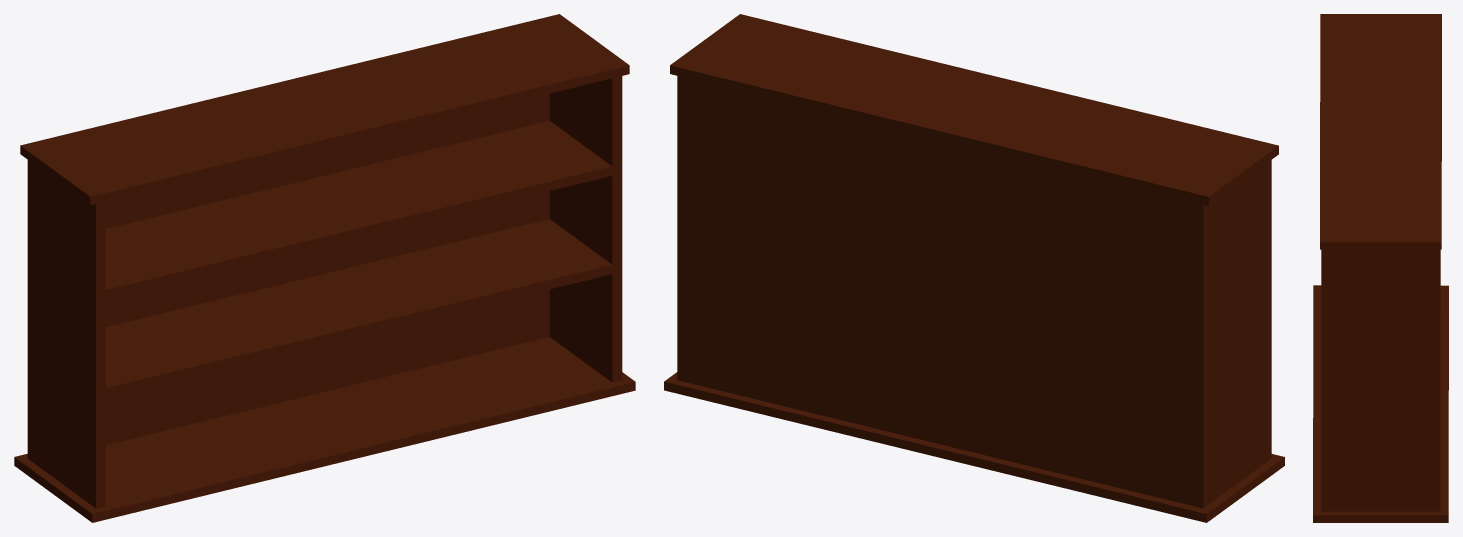
Rendered from book-shelf.obj.
3 views of the same model, side by side, from view 1: azimuth 30°, elevation 25°; view 2: azimuth 150°, elevation 25°; view 3: azimuth 270°, elevation 25° (orthographic). The views are drawn at different scales.
Parts seen in each view (by area): view 1: Cube; view 2: Cube; view 3: Cube.
Part boxes in pixels (bbox=[...]): Cube: bbox=[14, 14, 635, 522]; Cube: bbox=[664, 14, 1284, 522]; Cube: bbox=[1313, 14, 1448, 522].
Size of the model in its own units: 8.02 by 4.55 by 2.
